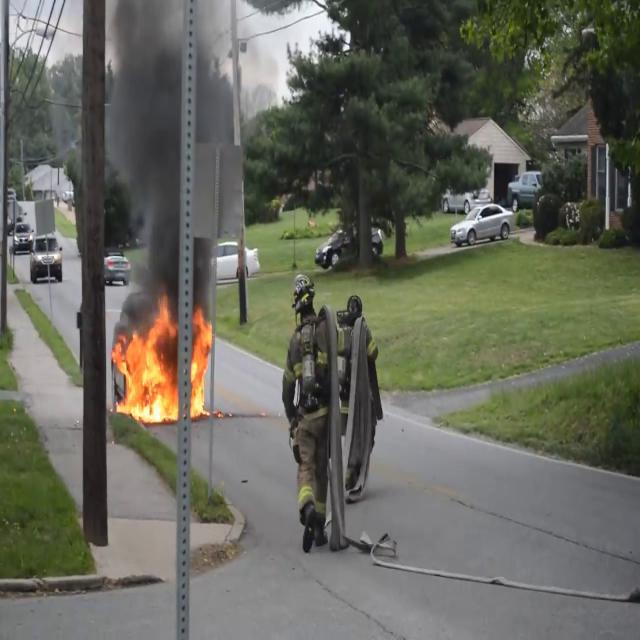Fire: (111, 301, 215, 424), (188, 306, 214, 416)
Smoke: (104, 0, 244, 316)
